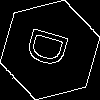D: (25, 25, 78, 73)
